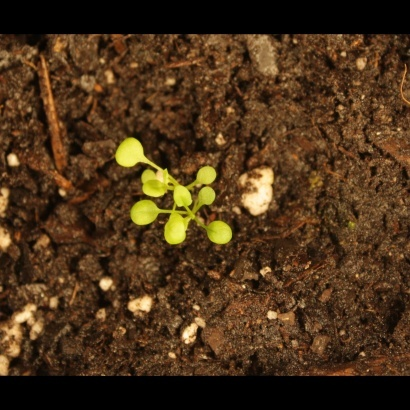leaf: (115, 136, 152, 172), (161, 212, 194, 250), (201, 218, 236, 247), (129, 199, 162, 228), (171, 181, 200, 214), (195, 185, 222, 209), (193, 164, 221, 187), (143, 176, 169, 199), (136, 167, 159, 190)
